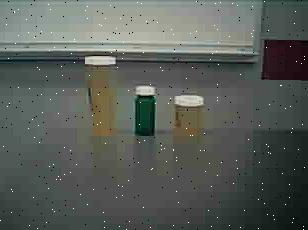Bottle A: (80, 50, 125, 142)
Bottle B: (170, 91, 208, 142)
Bottle C: (132, 81, 162, 139)
